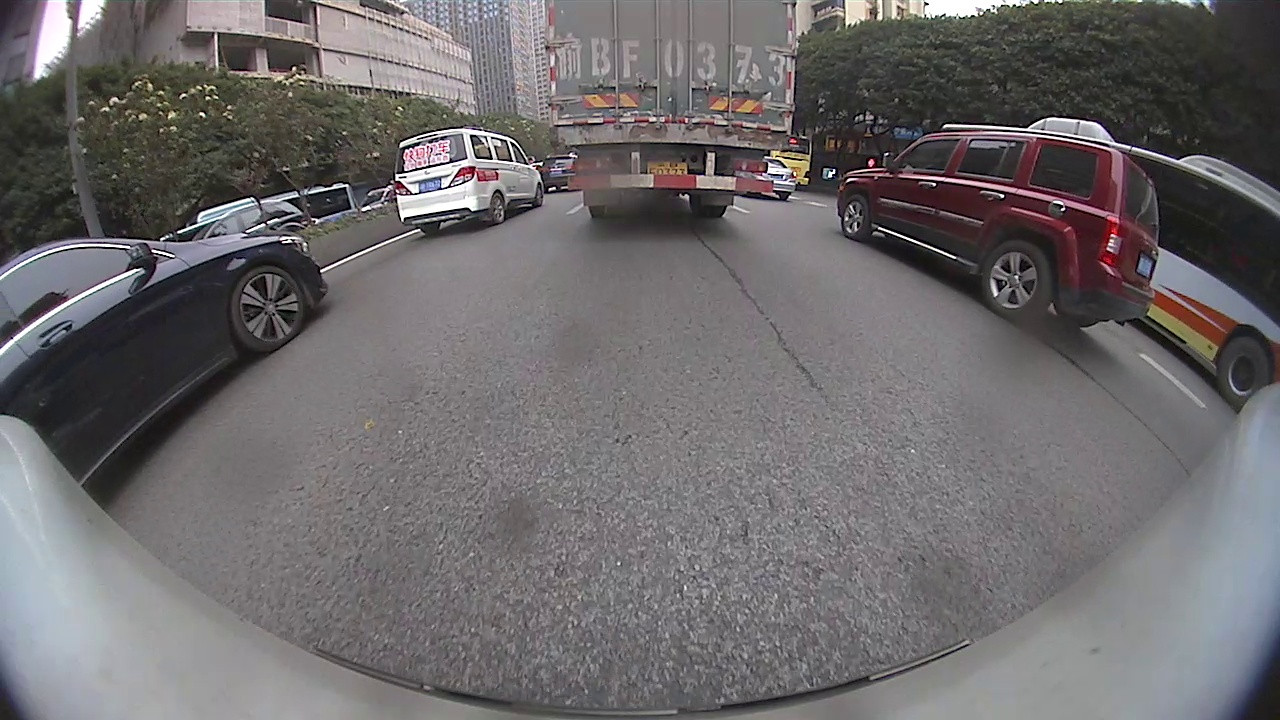bus: (940, 116, 1277, 407)
car: (1, 229, 329, 490), (836, 132, 1161, 325), (391, 123, 544, 238), (738, 154, 796, 200)
front: (225, 263, 309, 356), (839, 193, 875, 241)
rear: (980, 239, 1055, 323), (1215, 335, 1275, 411), (485, 191, 508, 227)
truck: (544, 0, 795, 224)
